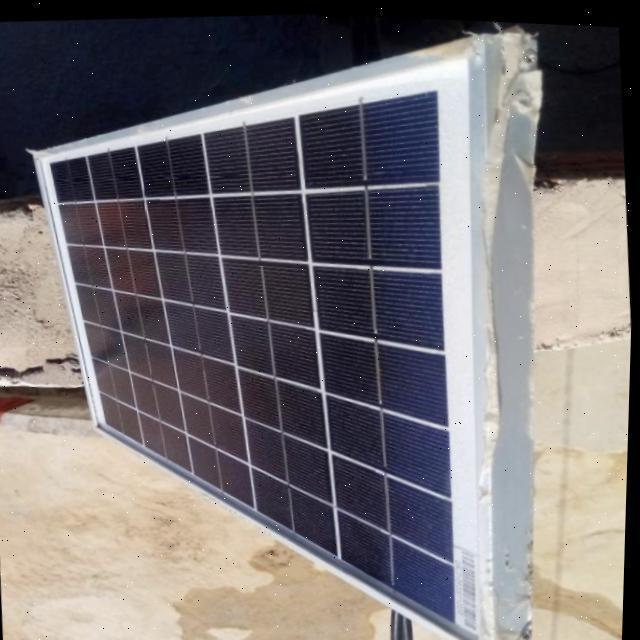Normal Solar Panel: (21, 15, 520, 640)
